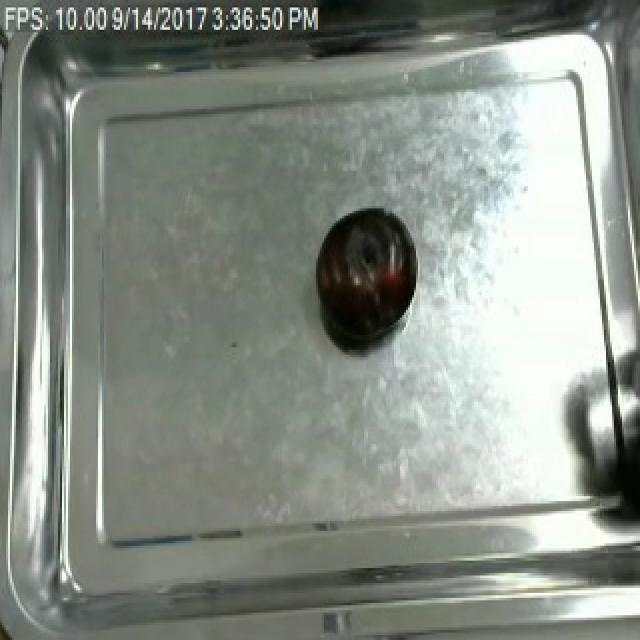Fruit: (310, 201, 420, 350)
